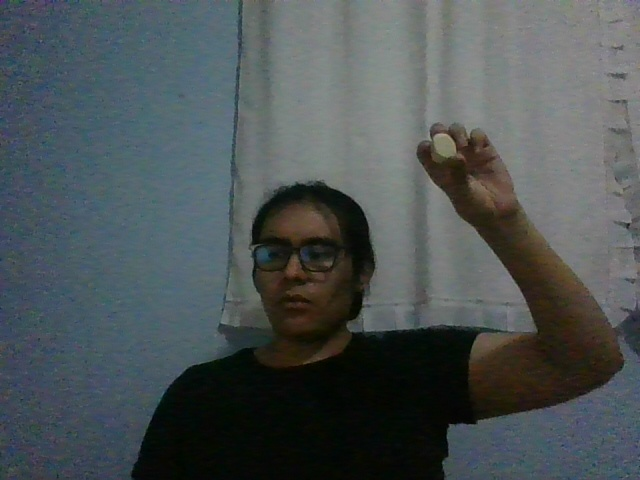goma: (430, 133, 456, 164)
